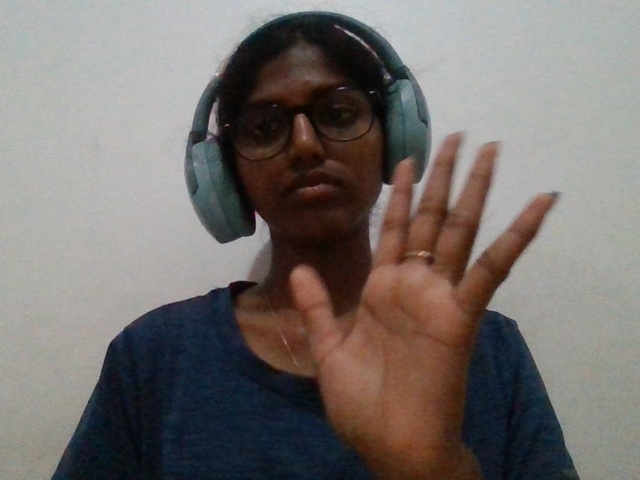Bye: (245, 125, 636, 480)
